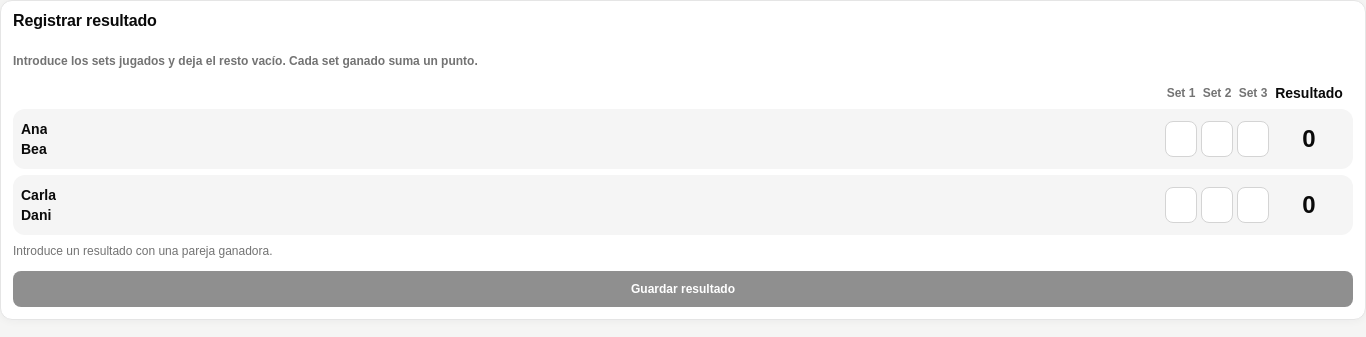
result entry › identifies the teams and keeps a partly entered set quiet and unsavable
The image size is (1366, 337).
In the 1st field: {"x": 1181, "y": 139} [1165,121,1197,157], type "6"
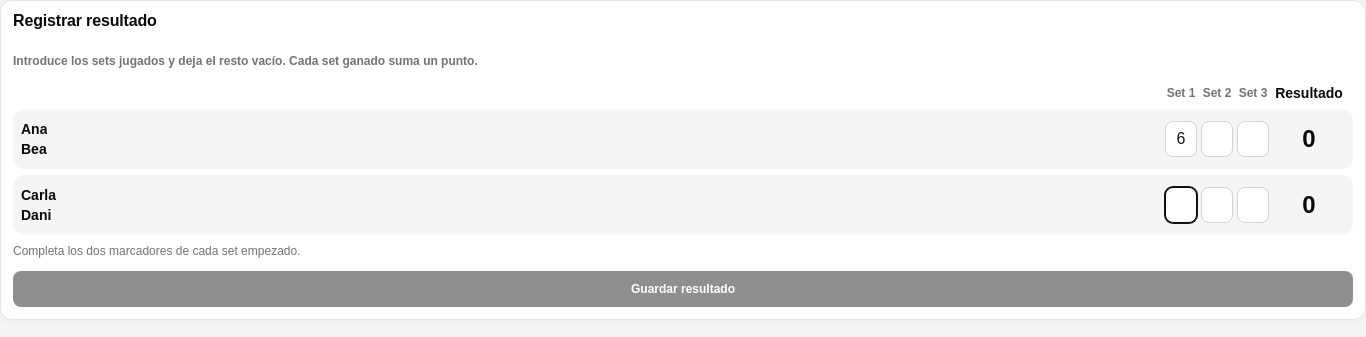
Check: the button "Guardar resultado" is disabled, box [13,271,1353,307]
Check: the text "Completa los dos marcadores de cada set empezado." is shown, box [13,244,300,258]
